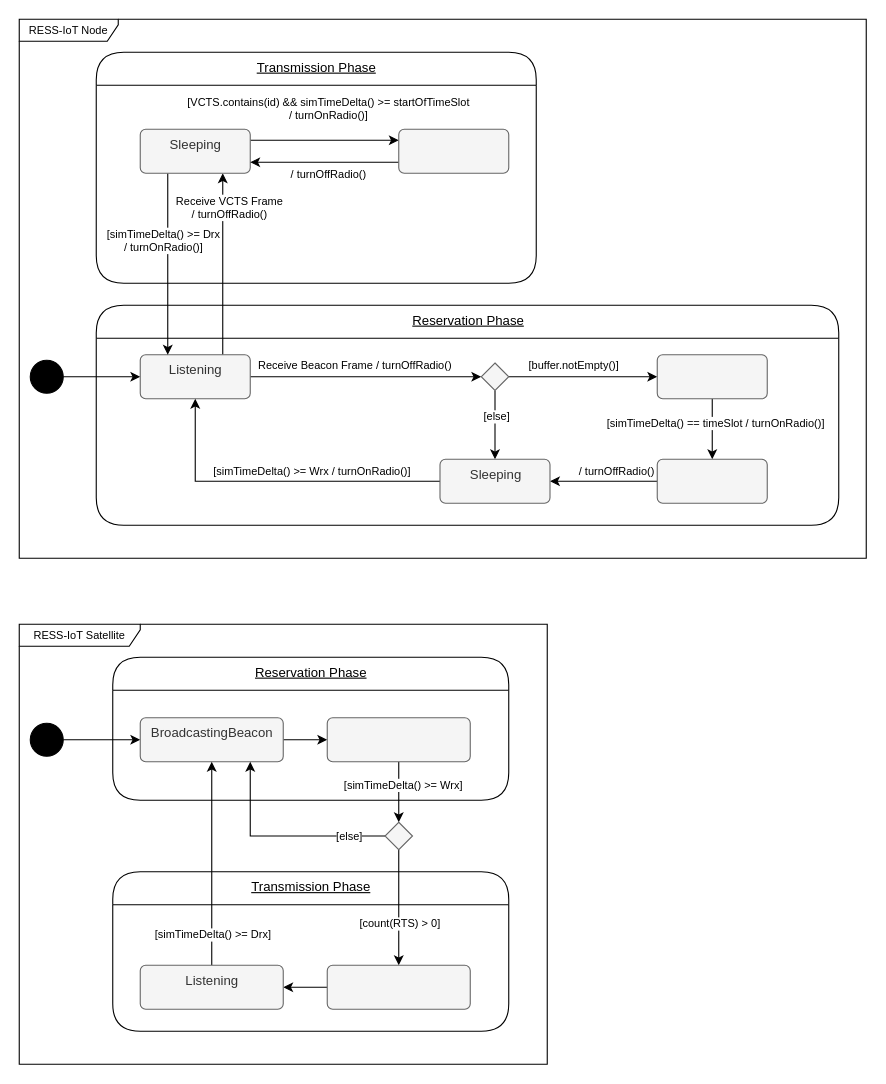
Image size: 886x1084. Some labels were removed from this diagram. The centre of each missing label's shape, as x and y in pixels:
"BroadcastingVCTS" goes at [398,986].
"ListeningRTS" goes at [398,739].
"Reserving" goes at [711,376].
"Transmitting" goes at [453,150].
"TransmittingRTS" goes at [711,480].
